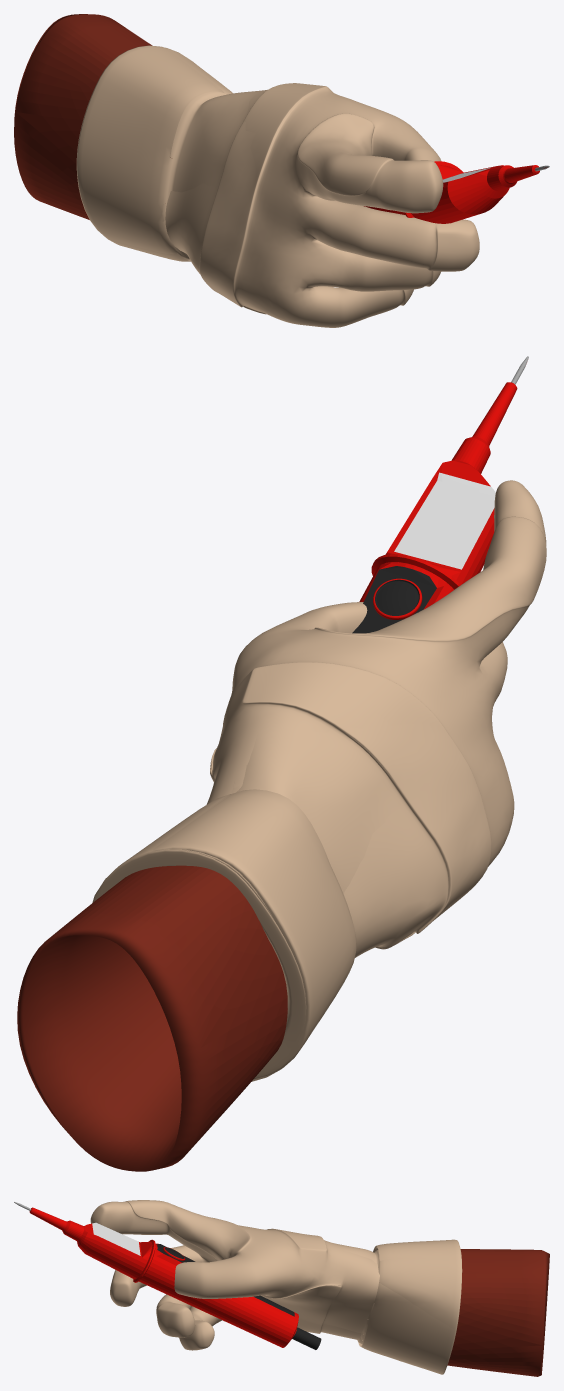
Rendered from glove-with-duspol-1.fbx.
3 views of the same model, one above another, from view 1: azimuth 30°, elevation 25°; view 2: azimuth 150°, elevation 25°; view 3: azimuth 270°, elevation 25° (orthographic). The views are drawn at different scales.
Visible parts, largest first — view 1: WorkGloves_RightWorkGloves, gloves.001_Cube.001, duspol-R_duspol; view 2: WorkGloves_RightWorkGloves, gloves.001_Cube.001, duspol-R_duspol, button_Sphere.003; view 3: WorkGloves_RightWorkGloves, gloves.001_Cube.001, duspol-R_duspol.
Boxes of the visible parts, x1=… form: WorkGloves_RightWorkGloves: x1=76, y1=45, x2=479, y2=327; gloves.001_Cube.001: x1=14, y1=14, x2=170, y2=219; duspol-R_duspol: x1=364, y1=161, x2=549, y2=223; WorkGloves_RightWorkGloves: x1=92, y1=480, x2=546, y2=1081; gloves.001_Cube.001: x1=17, y1=865, x2=287, y2=1171; duspol-R_duspol: x1=352, y1=356, x2=528, y2=633; button_Sphere.003: x1=373, y1=578, x2=422, y2=619; WorkGloves_RightWorkGloves: x1=90, y1=1200, x2=462, y2=1374; gloves.001_Cube.001: x1=447, y1=1249, x2=549, y2=1376; duspol-R_duspol: x1=14, y1=1202, x2=321, y2=1349.
Bounding box in the file's own units: 406 × 595 × 1447.
